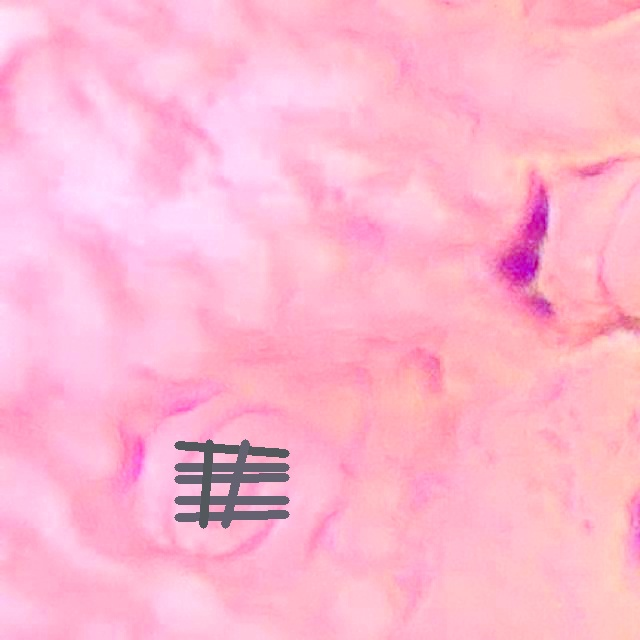close: (174, 439, 289, 528)
